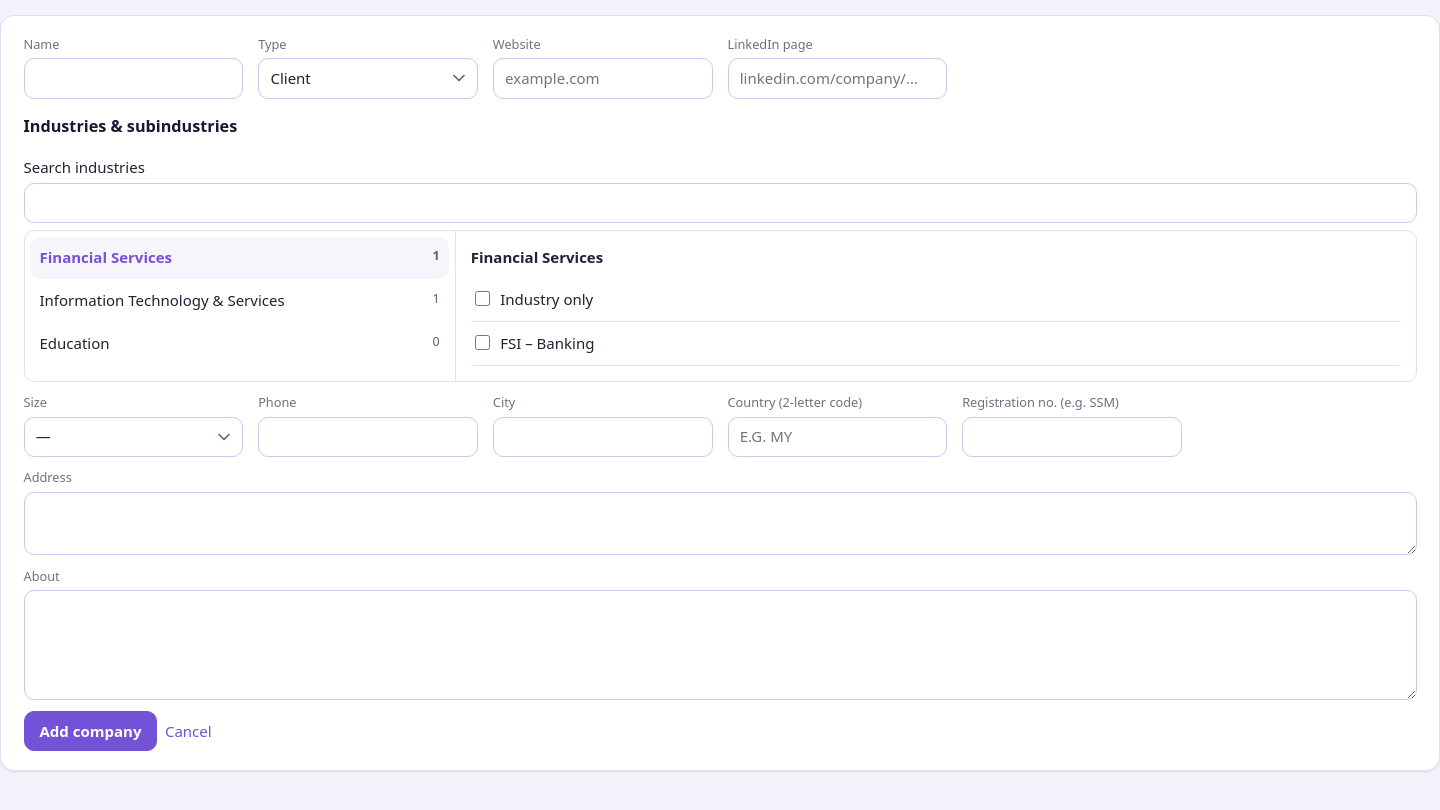
Test: company form › fills the city from LinkedIn's headquarters when it is empty
Step 1. Type "linkedin.com/company/maju-logistik" into the field labelled "LinkedIn page" → (837, 78), box [728,58,947,99]
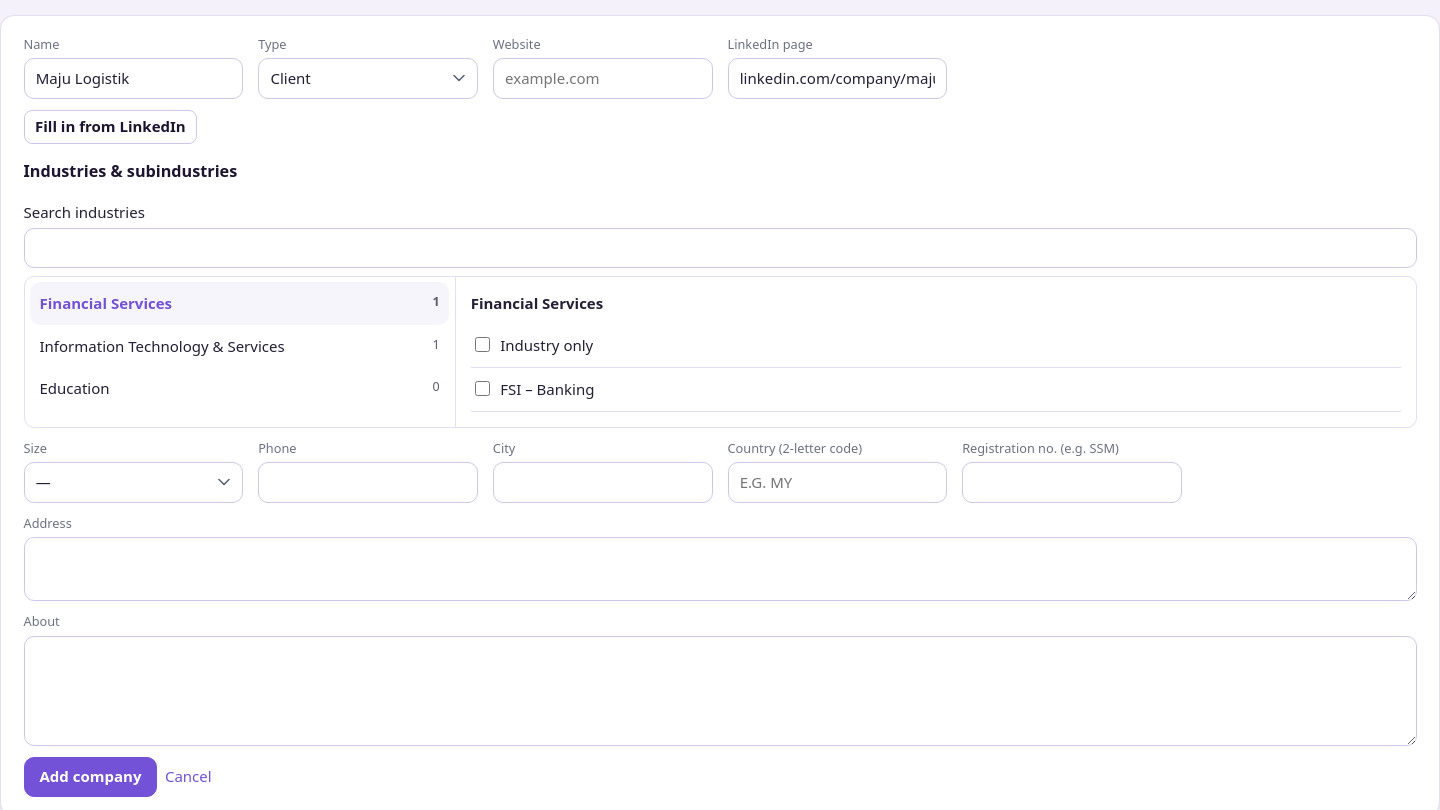
Step 2. Click the button "Fill in from LinkedIn" → (110, 127), box [24,110,197,144]
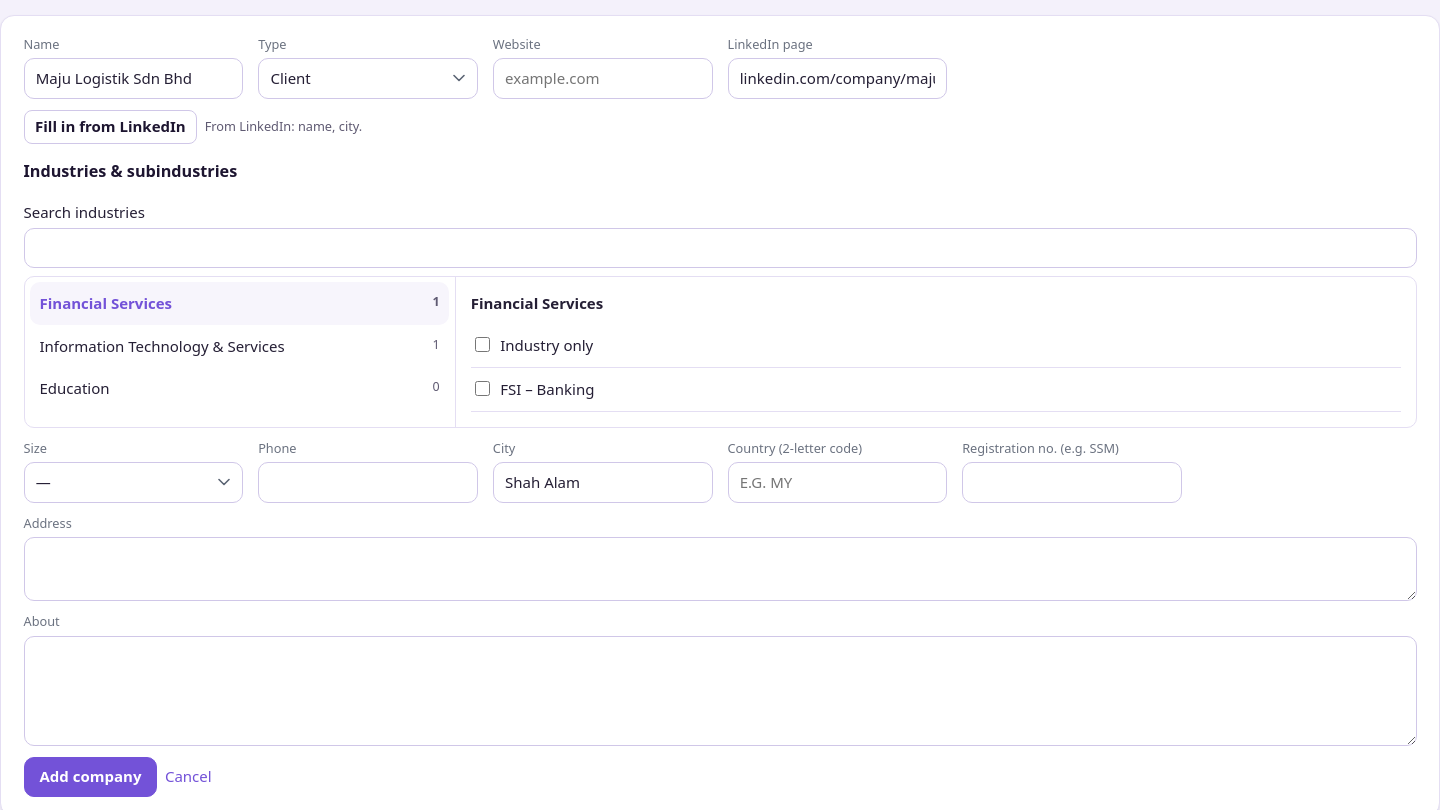
Check: the message reads "From LinkedIn: name, city.", box [205,117,362,135]
Check: the field labelled "City" holds "Shah Alam", box [493,462,712,503]
